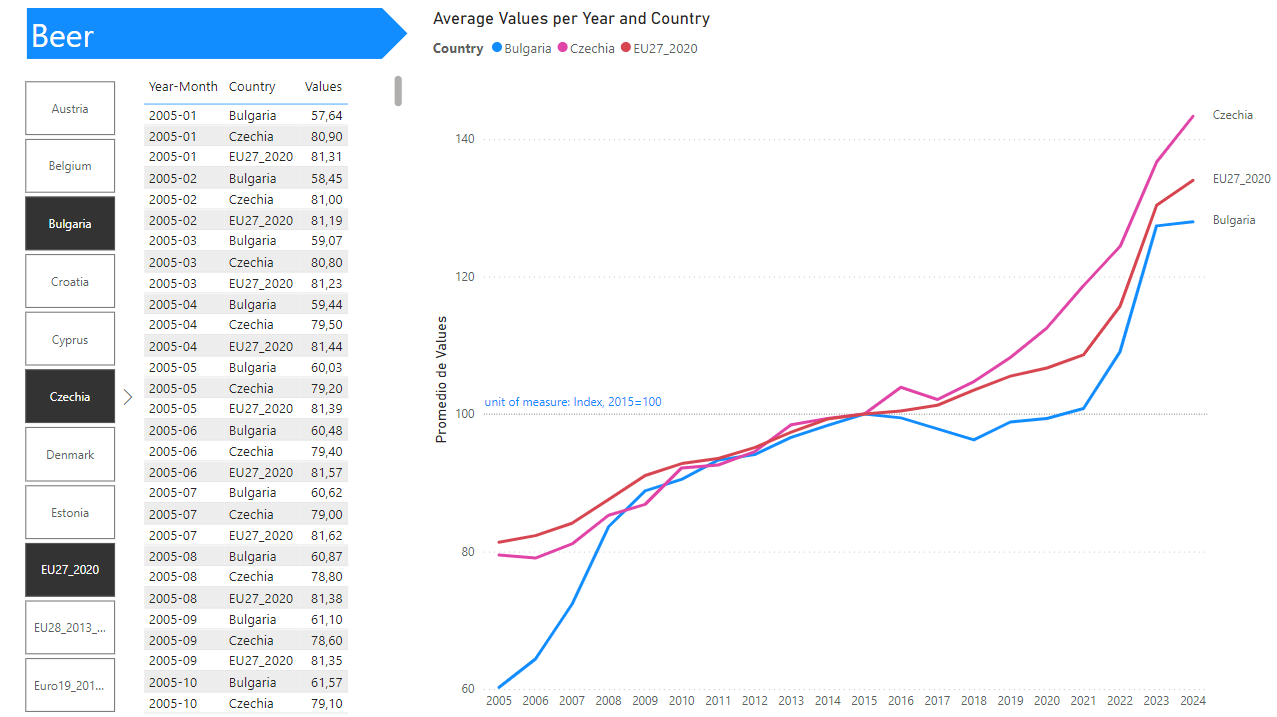

The dashboard page shown, as its layout file describes it:
{"tool":"powerbi","page":{"name":"Beer","canvas":[1280,720],"ordinal":0},"visuals":[{"type":"card","fields":{"Values":["Min(Beer.Country)"]},"box":[372.2,0,908.1,141.4],"z":2},{"type":"tableEx","fields":{"Values":["Beer.Date.Variación.Jerarquía de fechas.Año","Beer.Atributo.1","Beer.Valor.1"]},"box":[139.9,0,232.2,720.5],"z":5},{"type":"slicer","fields":{"Values":["Beer.Country"]},"box":[0,0,139.9,720.5],"z":6},{"type":"lineChart","fields":{"Category":["Beer.Date.Variación.Jerarquía de fechas.Año"],"Y":["Avg(Beer.Values)"]},"box":[372.2,169.7,908.1,550.8],"z":7}]}

Visuals, with their boxes in screenshot pixels (x1, y1, x2, y2), scaled from the page's 1280x720 canvas onto the 1277x717 screenshot:
card - Min(Beer.Country): 371, 0, 1276, 141
tableEx - Beer.Date.Variación.Jerarquía de fechas.Año x Beer.Atributo.1: 140, 0, 371, 716
slicer - Beer.Country: 0, 0, 140, 716
lineChart - Beer.Date.Variación.Jerarquía de fechas.Año x Avg(Beer.Values): 371, 169, 1276, 716
